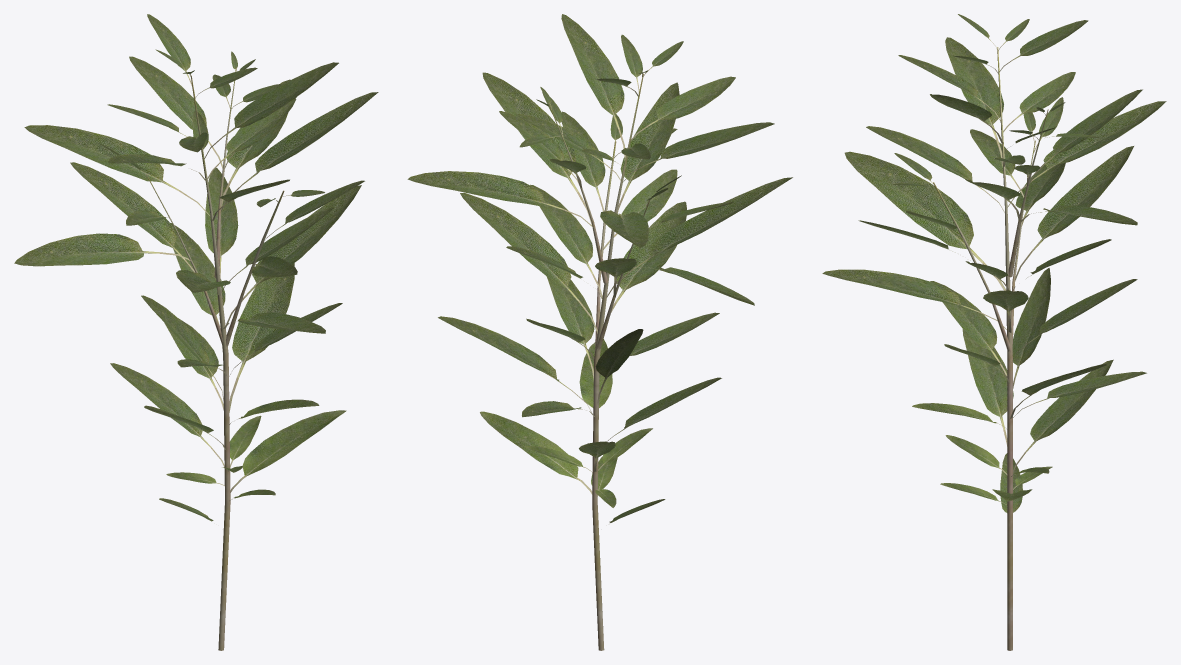
File: Sage4.fbx
3 views of the same model, side by side, from view 1: azimuth 30°, elevation 25°; view 2: azimuth 150°, elevation 25°; view 3: azimuth 270°, elevation 25° (orthographic).
Parts seen in each view (by area): view 1: Sage4; view 2: Sage4; view 3: Sage4.
Boxes of the visible parts, <box> form: Sage4: <box>14,14,378,650</box>; Sage4: <box>407,14,792,650</box>; Sage4: <box>822,14,1166,650</box>.
Size of the model in its own units: 39.58 by 71.91 by 36.69.
